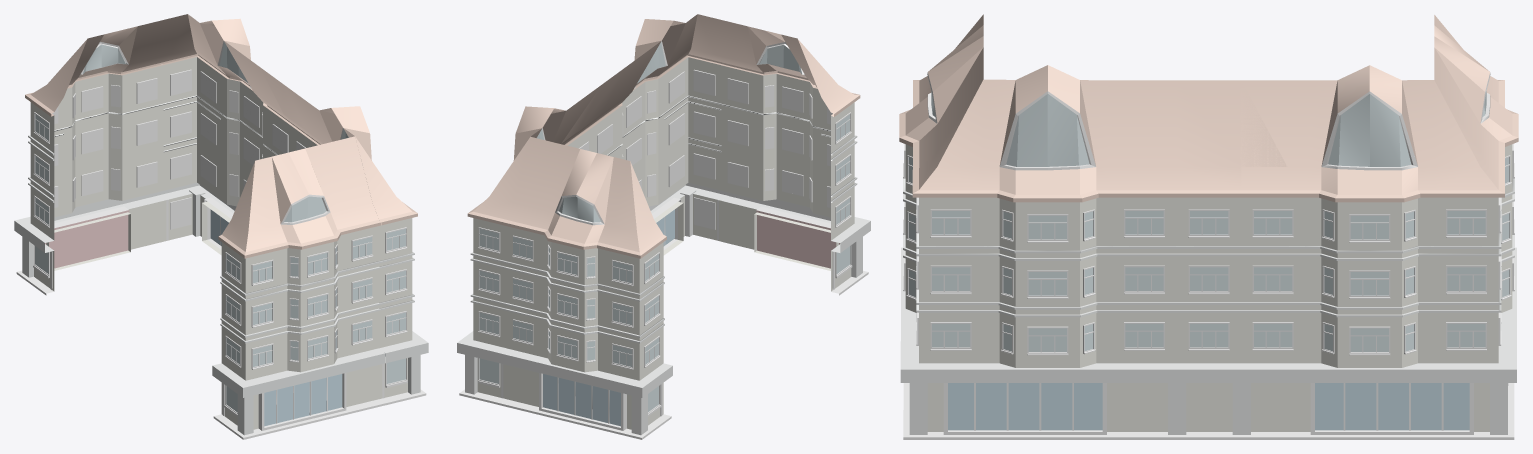
File: BATIMENT FACE 123.fbx
The picture shows the model from 3 angles, left to right: view 1: azimuth 30°, elevation 25°; view 2: azimuth 150°, elevation 25°; view 3: azimuth 270°, elevation 25°; orthographic projection. The views are drawn at different scales.
Visible parts, largest first — view 1: Building_facad.019; view 2: Building_facad.019; view 3: Building_facad.019.
Boxes of the visible parts, x1,y1,x2,y2 form: Building_facad.019: (14, 14, 428, 439); Building_facad.019: (457, 14, 870, 439); Building_facad.019: (899, 14, 1518, 439).
Size of the model in its own units: 3548 by 4699 by 7586.
